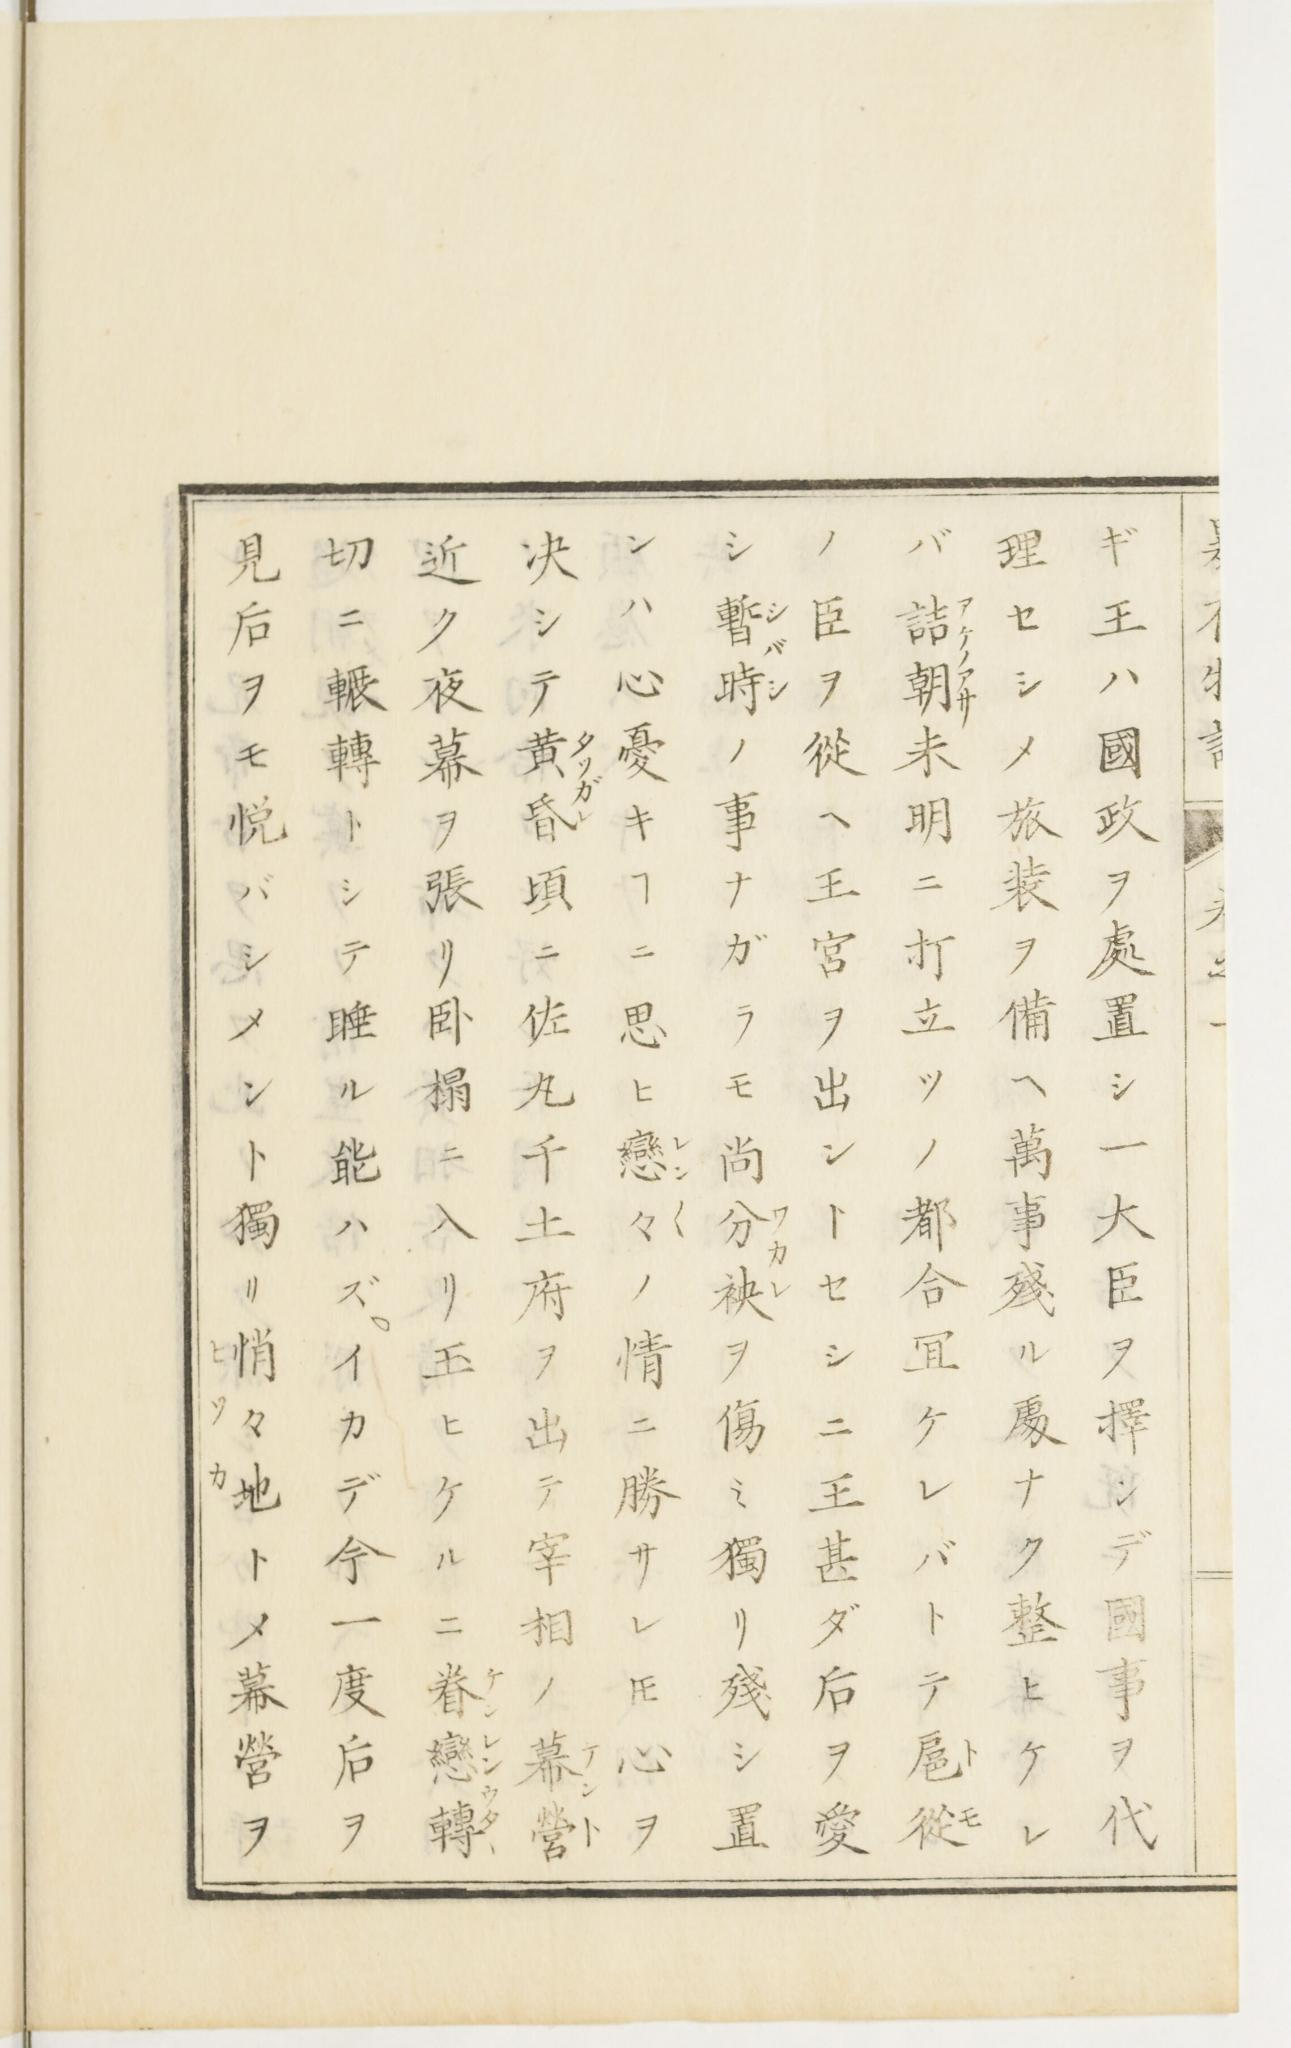MainZone-Character: (421, 1780, 510, 1864), (509, 776, 610, 849), (705, 592, 791, 662), (897, 590, 977, 662), (419, 1727, 513, 1788), (898, 1724, 988, 1788), (524, 1727, 601, 1800), (712, 1193, 793, 1263), (610, 1117, 695, 1182), (900, 1795, 982, 1861), (522, 1804, 604, 1865), (425, 1660, 509, 1719), (712, 1264, 791, 1327), (708, 660, 794, 717), (892, 662, 970, 724), (620, 1191, 696, 1254), (522, 724, 596, 779)
MainZone-Ruby: (474, 1783, 503, 1855), (763, 598, 794, 657), (953, 590, 977, 665), (571, 773, 601, 833), (476, 1663, 506, 1722), (763, 1202, 791, 1261), (577, 1736, 602, 1801), (477, 1727, 509, 1774), (671, 1130, 696, 1184), (953, 666, 979, 715), (570, 721, 593, 773), (763, 1270, 800, 1303), (665, 1196, 690, 1240), (958, 1734, 983, 1771), (763, 674, 794, 702), (579, 1810, 599, 1850), (959, 1800, 985, 1832)
